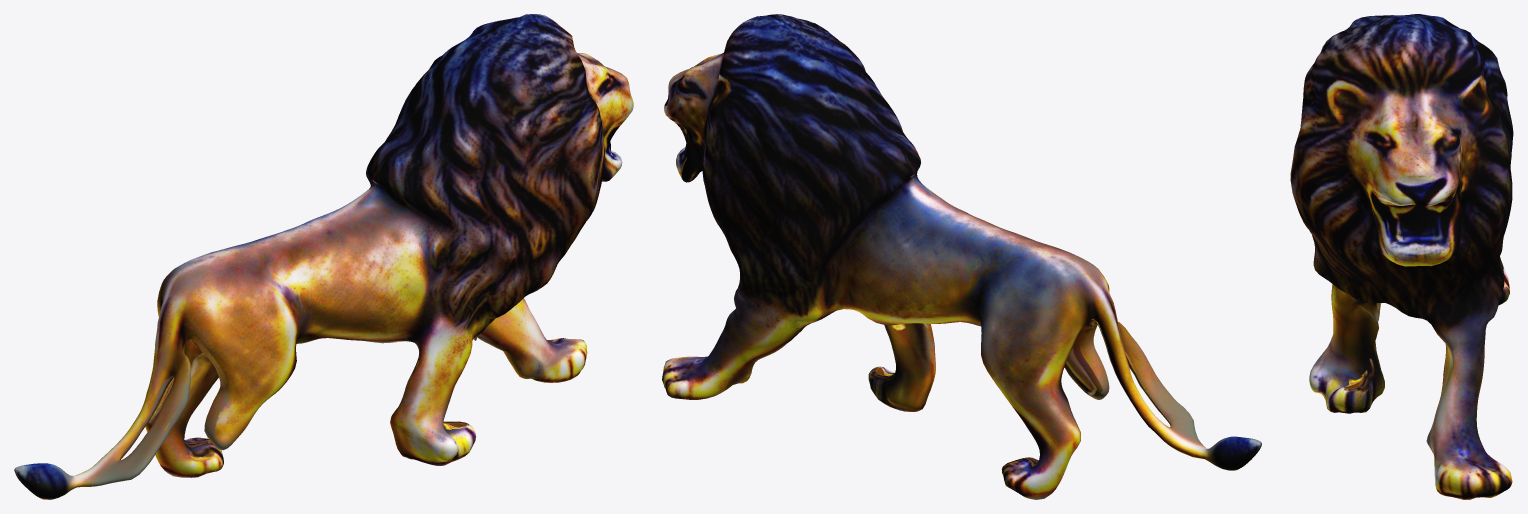
The model's file is 5ca55b66-3c83-4b17-8b78-f9dddcb9b7fd.glb.
3 renders of one model, left to right at view 1: azimuth 30°, elevation 25°; view 2: azimuth 150°, elevation 25°; view 3: azimuth 270°, elevation 25°, orthographic. The views are drawn at different scales.
Visible parts, largest first — view 1: mesh; view 2: mesh; view 3: mesh.
Part boxes in pixels (box(x1,y1,x2,y2)): mesh: box(14, 14, 633, 499); mesh: box(662, 14, 1261, 499); mesh: box(1290, 14, 1513, 499).
Size of the model in its own units: 0.9973 by 0.6256 by 0.2724.
1 material, 1 textured.
